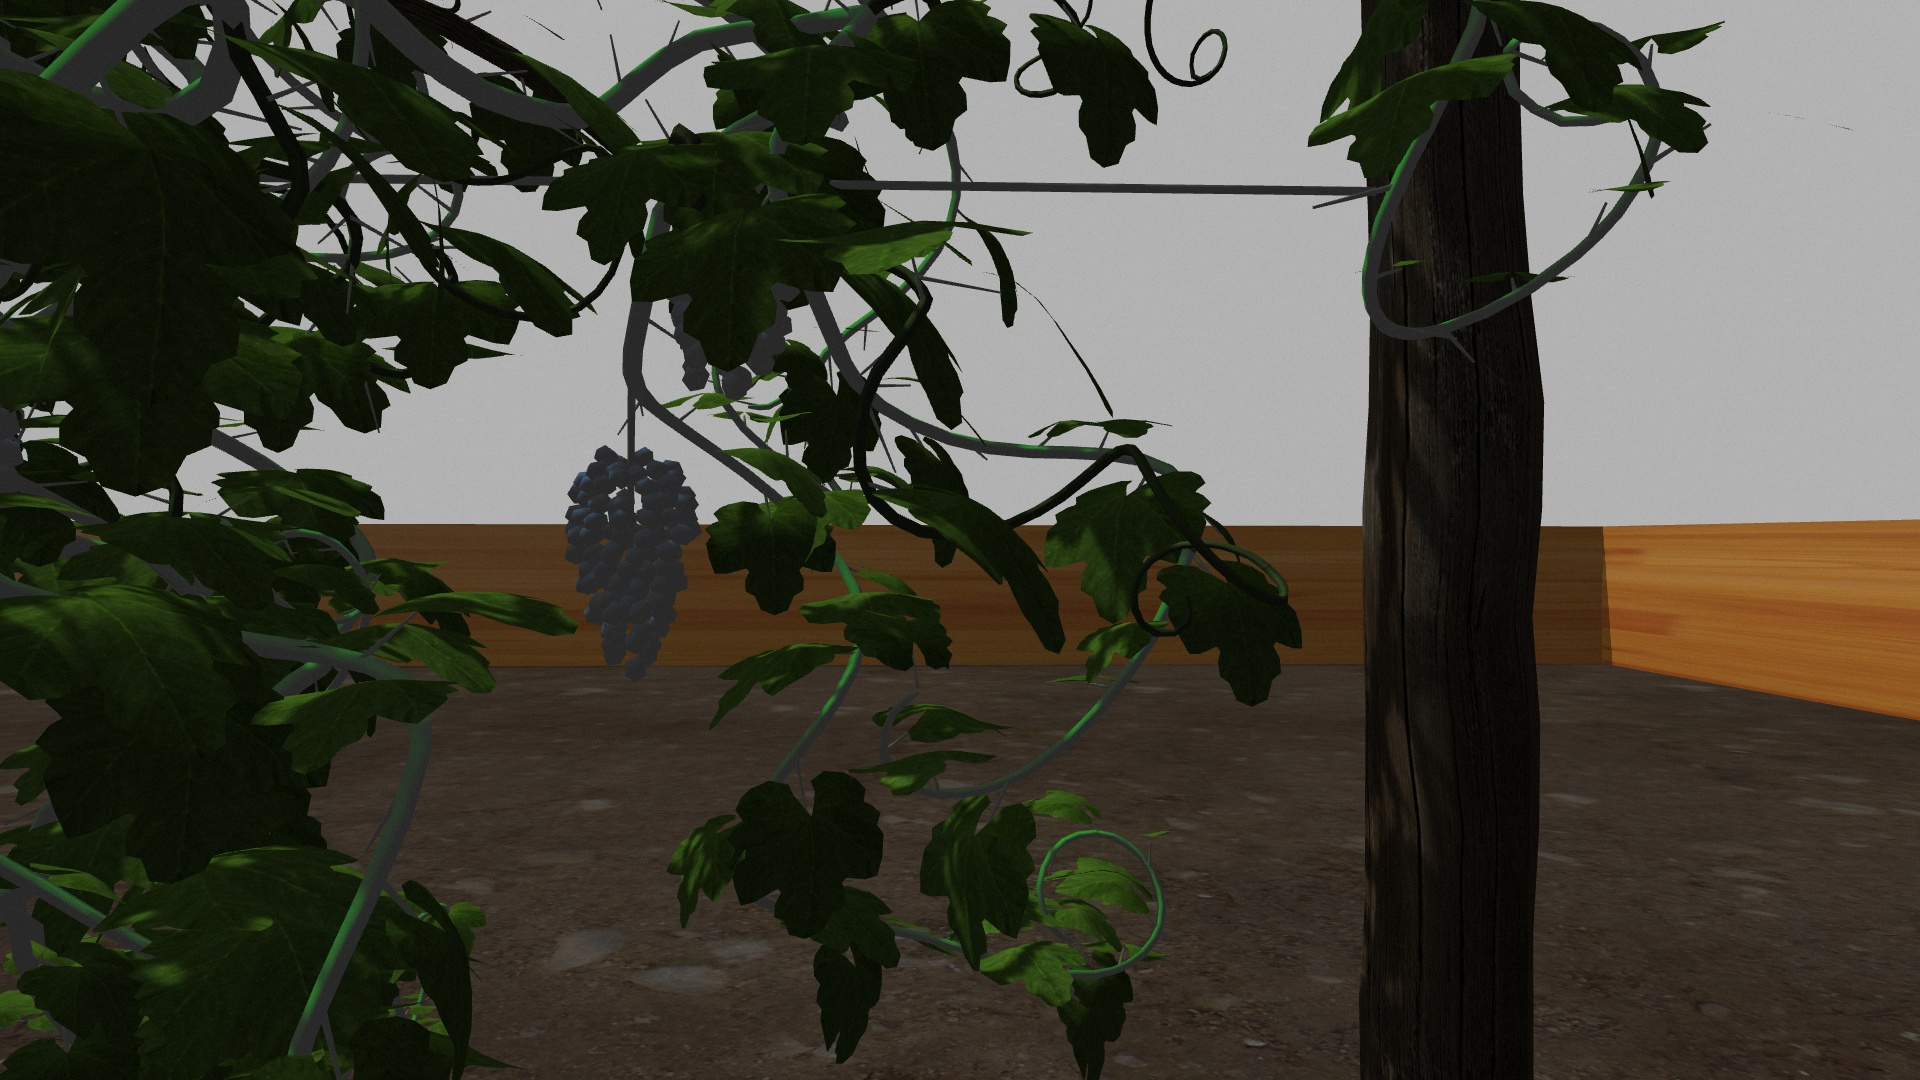grape: (560, 444, 702, 680)
